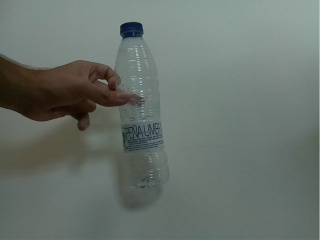botella plastico: (110, 19, 174, 194)
